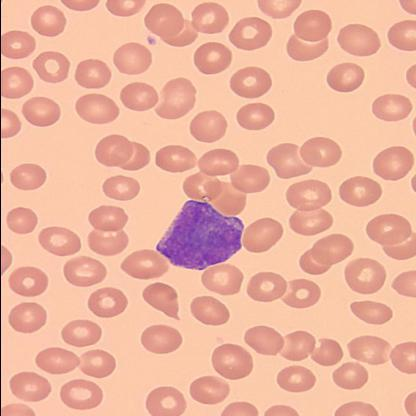Promyelocyte: (156, 200, 244, 272)
